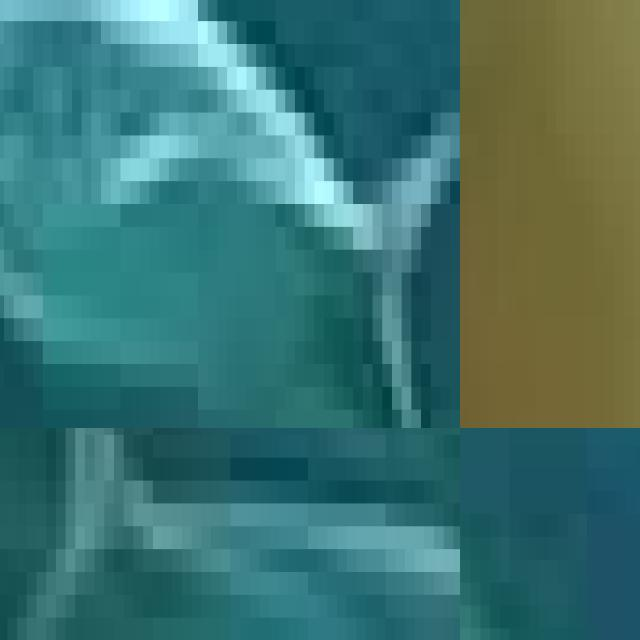fish: (0, 0, 460, 428)
